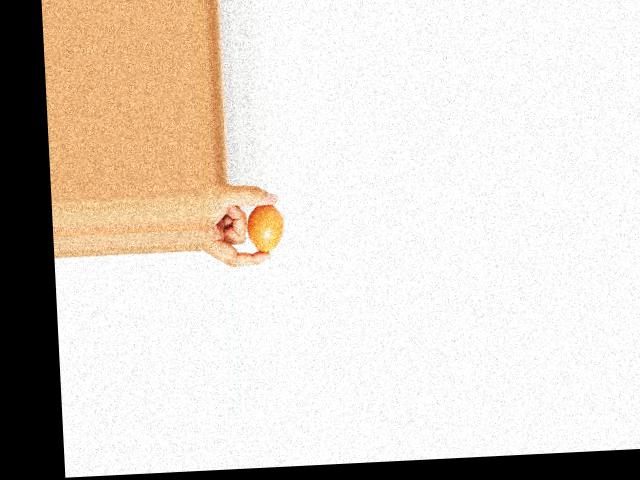egg: (246, 203, 286, 254)
